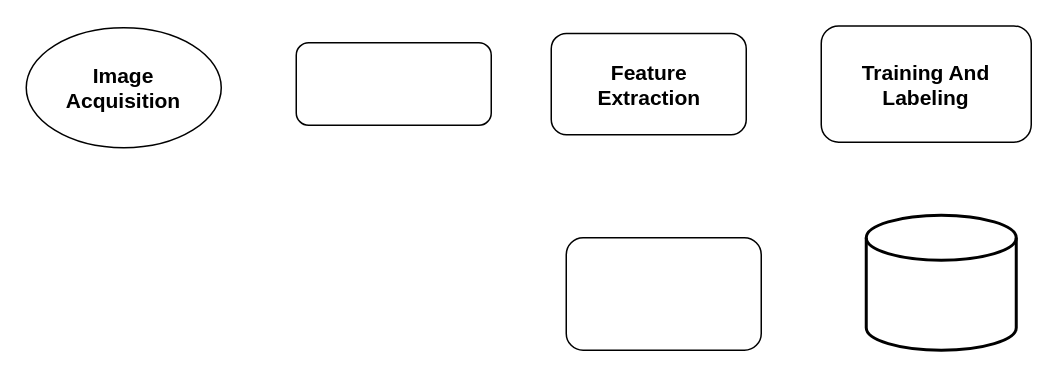
This 1058x378 diagram has some shape labels left out. The shapes that lost their labels are listed below. From the top down, each one's centre as x and y in pixels, then its label:
the point at 393,83: Preprocessing
the point at 940,282: Trained Dataset
